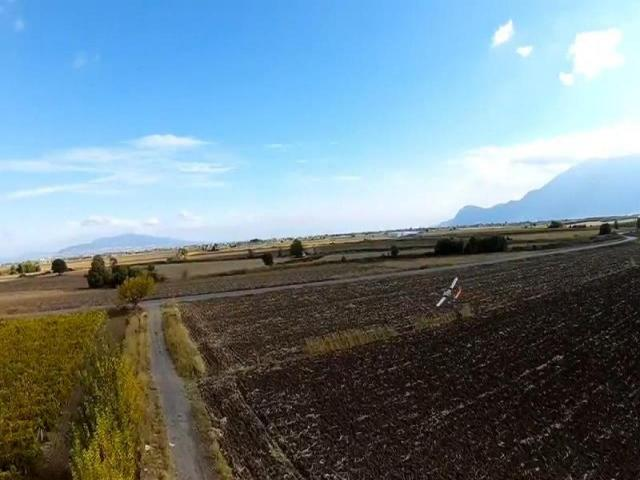hedef: (433, 274, 463, 314)
